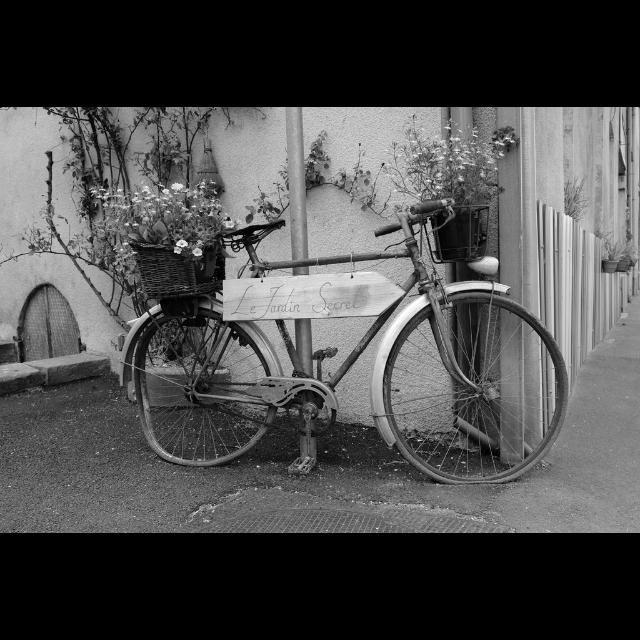Flower: (190, 248, 203, 258), (224, 220, 236, 230), (170, 182, 184, 190), (177, 238, 187, 246), (162, 187, 170, 195), (173, 246, 179, 254)
